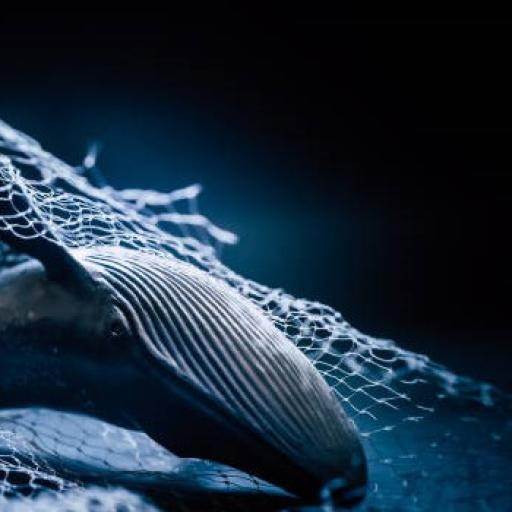net: (2, 123, 512, 512)
